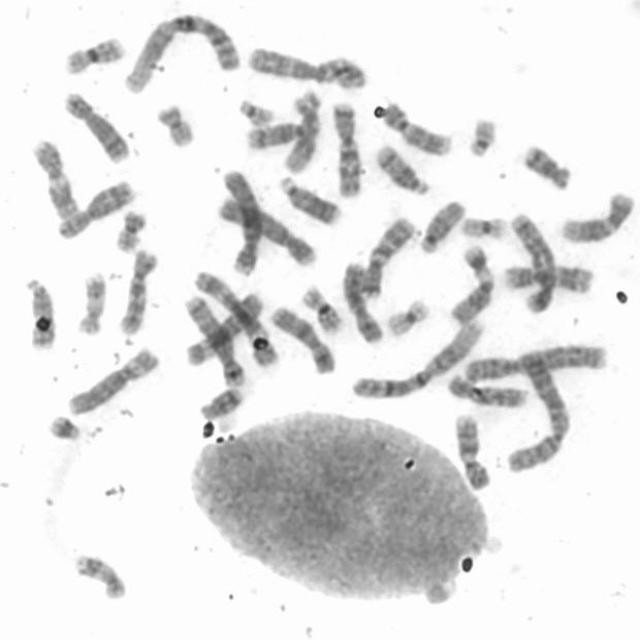A1: (347, 313, 488, 401), (119, 8, 242, 95)
A2: (502, 342, 574, 474), (460, 340, 611, 384)
A3: (189, 267, 281, 369), (244, 41, 368, 90)
B4: (215, 192, 321, 268), (217, 164, 265, 276)
B5: (180, 290, 250, 389), (505, 207, 559, 316)
C10: (114, 245, 160, 337), (443, 369, 528, 410)
C11: (29, 134, 80, 221), (498, 258, 594, 294)
C12: (554, 186, 636, 246), (279, 87, 323, 174)
C6: (63, 343, 161, 416), (181, 288, 265, 367)
C7: (355, 211, 419, 299), (328, 95, 364, 200)
C8: (60, 88, 130, 164), (54, 176, 135, 241)
C9: (379, 97, 454, 157), (451, 409, 494, 491)
D13: (276, 172, 344, 227), (20, 273, 58, 351)
D14: (371, 140, 432, 198), (241, 117, 315, 152)
D15: (416, 195, 468, 255), (446, 277, 494, 325)
E16: (60, 31, 127, 76), (298, 282, 345, 336)
E17: (70, 548, 129, 602), (74, 267, 106, 337)
E18: (519, 138, 574, 192), (195, 383, 248, 421)
F19: (381, 292, 432, 339), (457, 210, 510, 242)
F20: (152, 98, 198, 149), (112, 204, 148, 253)
G21: (458, 239, 494, 280), (43, 409, 84, 443)
G22: (464, 112, 499, 160), (234, 95, 275, 128)
X: (264, 301, 336, 375), (339, 257, 386, 345)
